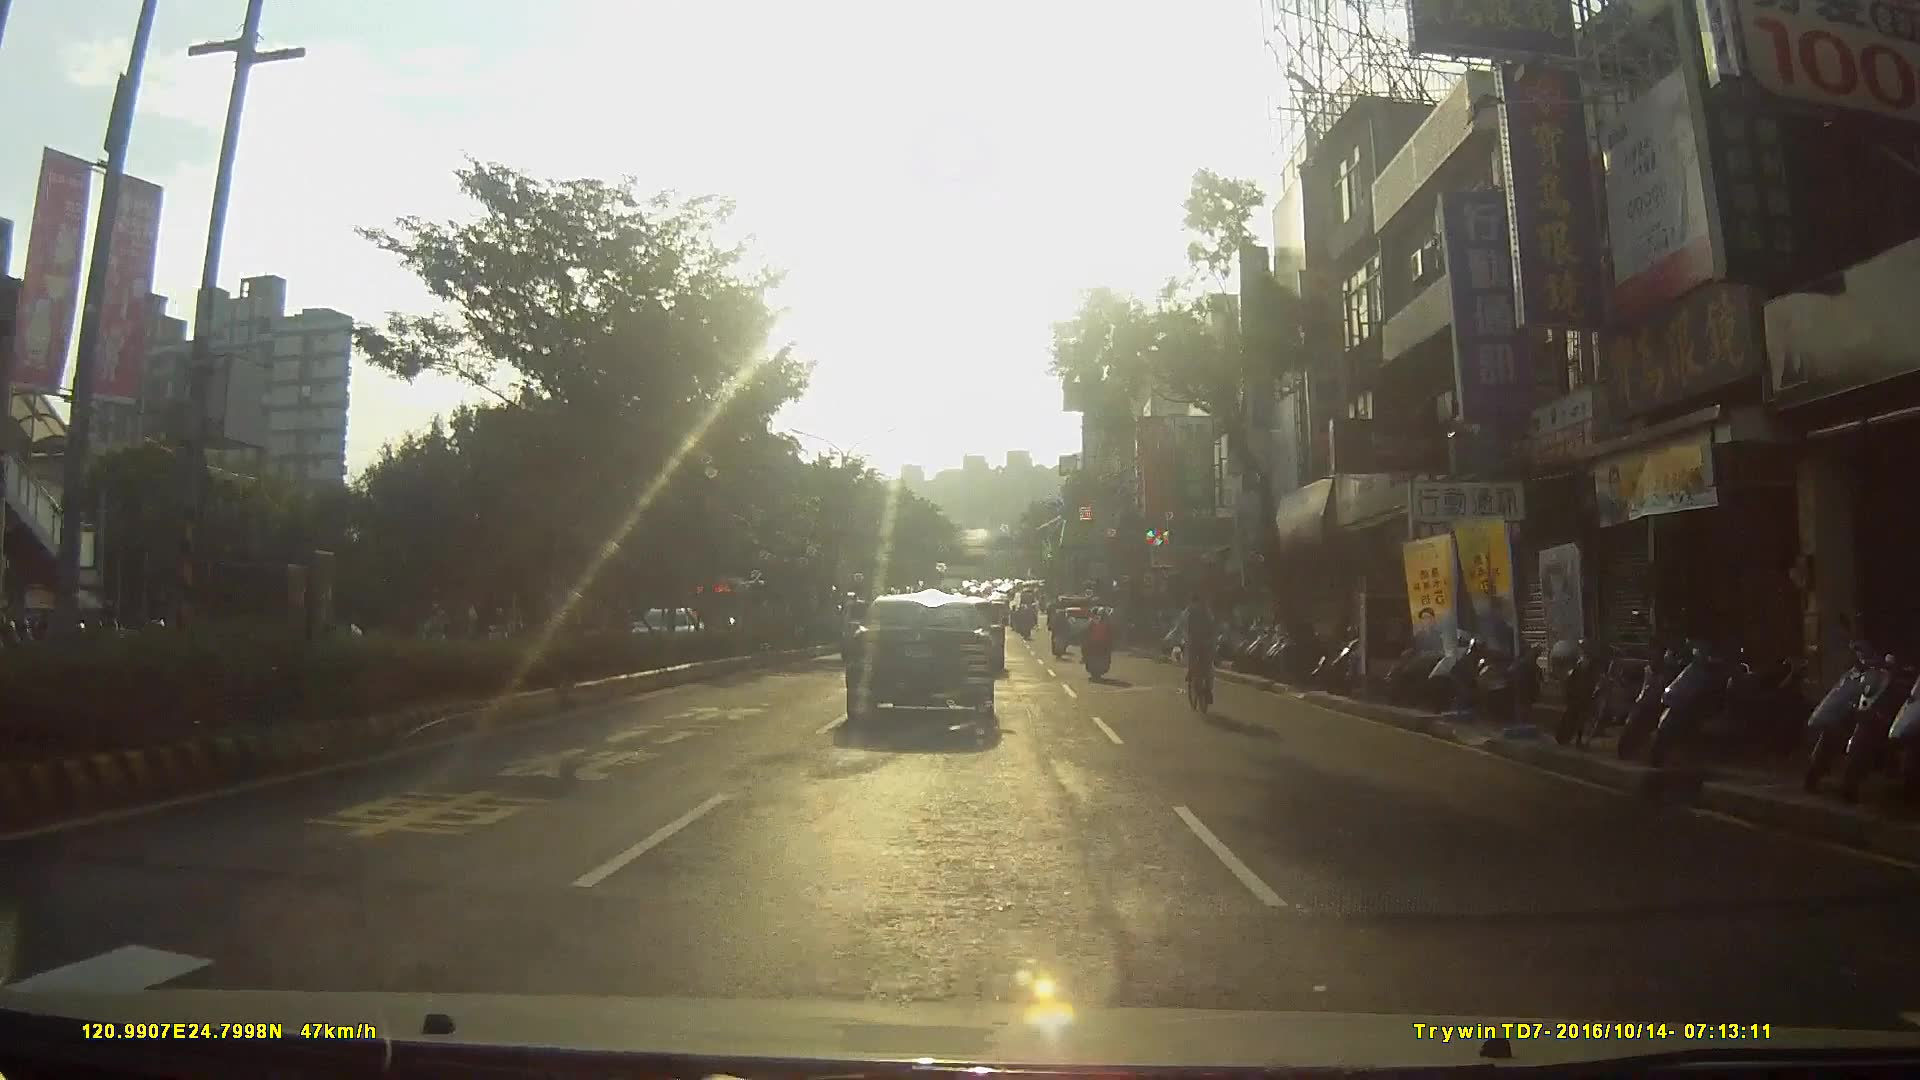rider: (1174, 586, 1233, 722), (1082, 612, 1116, 688), (1048, 608, 1073, 662)
vehicle: (844, 606, 1009, 752)
